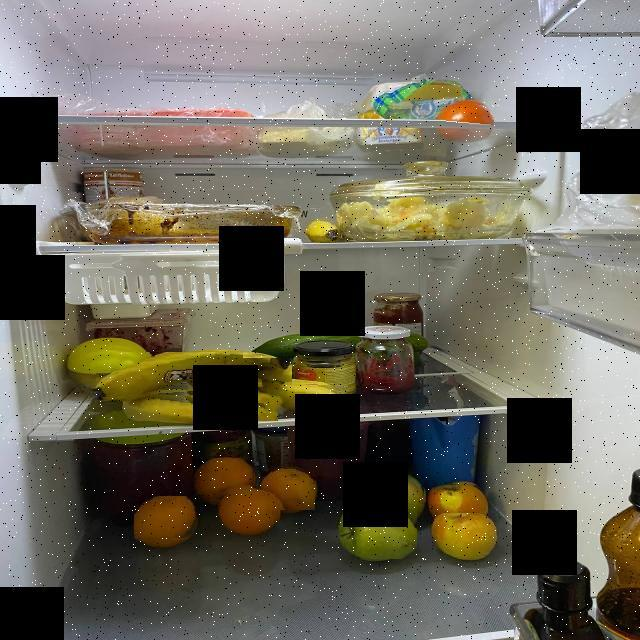Apple: (342, 501, 418, 559), (428, 511, 499, 562), (358, 468, 426, 504), (424, 482, 488, 513)
Banana: (86, 352, 292, 398), (113, 389, 279, 421), (262, 380, 346, 411), (294, 213, 340, 242)
Cucumber: (243, 329, 428, 358)
Orange: (134, 496, 200, 542), (265, 464, 315, 510), (194, 458, 256, 495), (224, 493, 279, 533)
Tomato: (438, 101, 494, 125), (320, 323, 355, 333)
